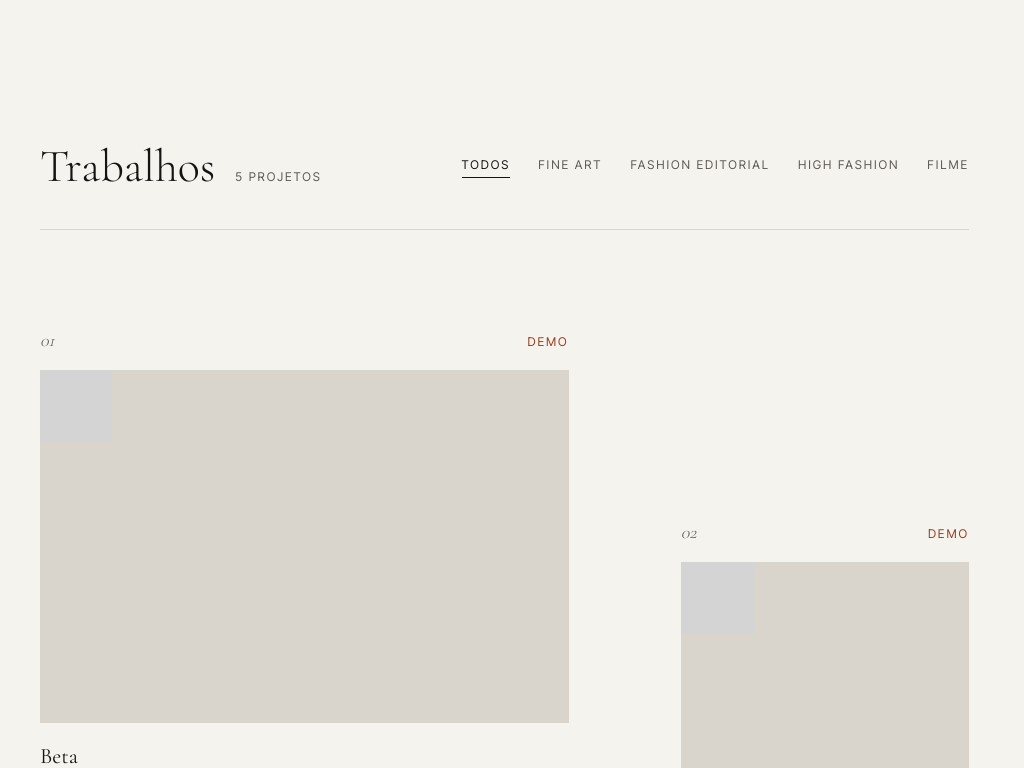
Scenario: EditorialGrid › CA-06: posição (índice) dos cards é relativa à lista filtrada
Click the button "Fine Art".
click(570, 167)  # box [526,145,614,189]
(page scrolled)
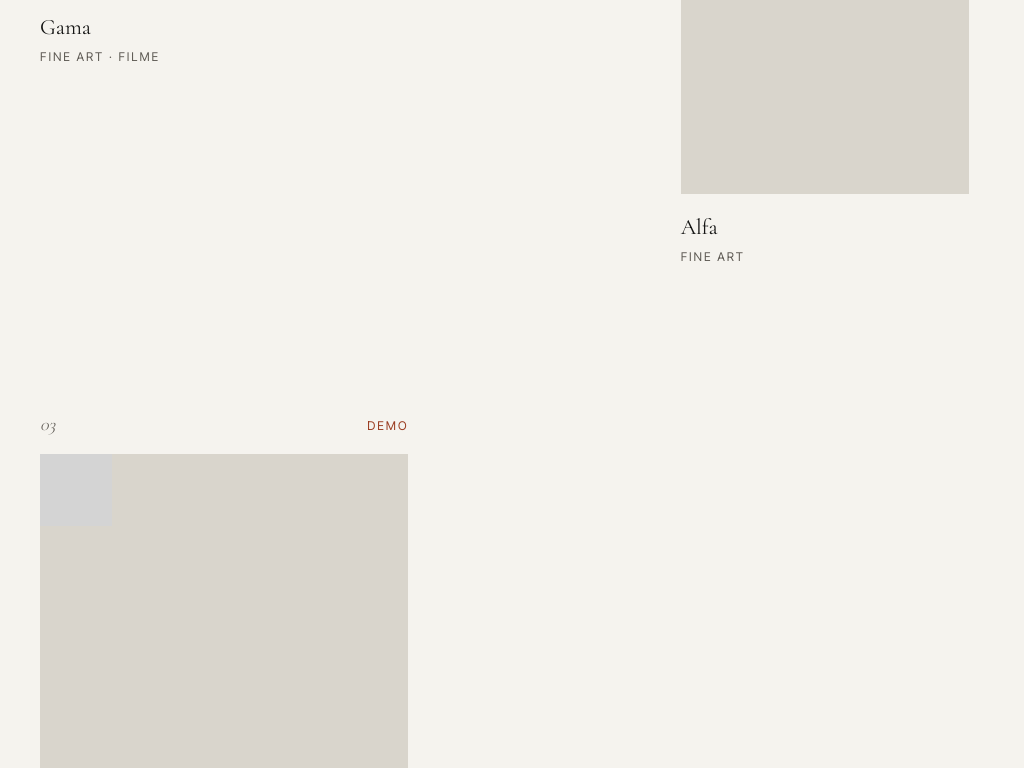
expect the text "03" is shown: met, box [40,410,56,438]
